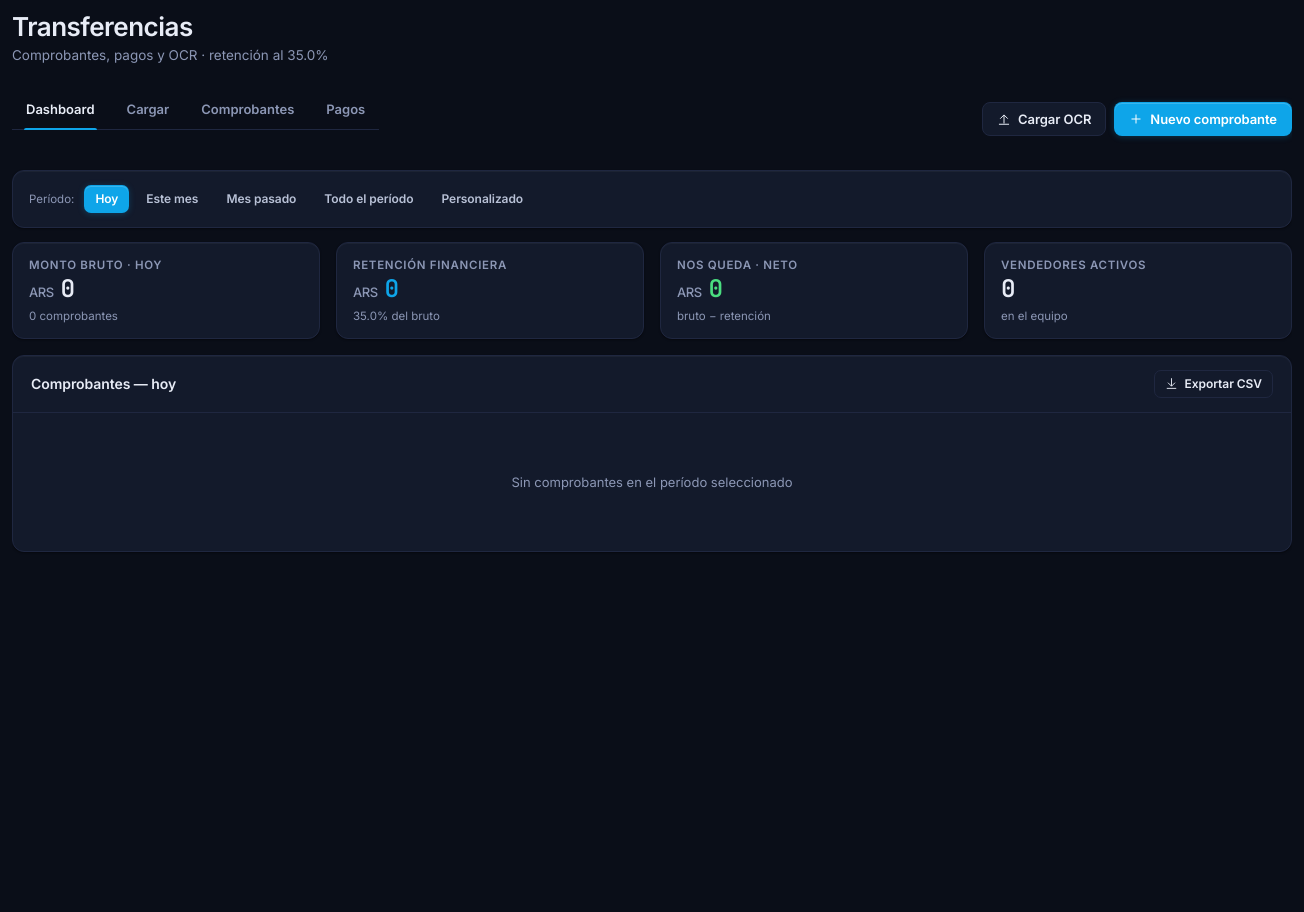
it: Financiera — form Pagos (TANDAs 1-3 sprint USD) › U3: saldo del período negativo se pinta con color var(--neg)
Click the button "Pagos".
click(346, 109)  # box [312,89,379,129]
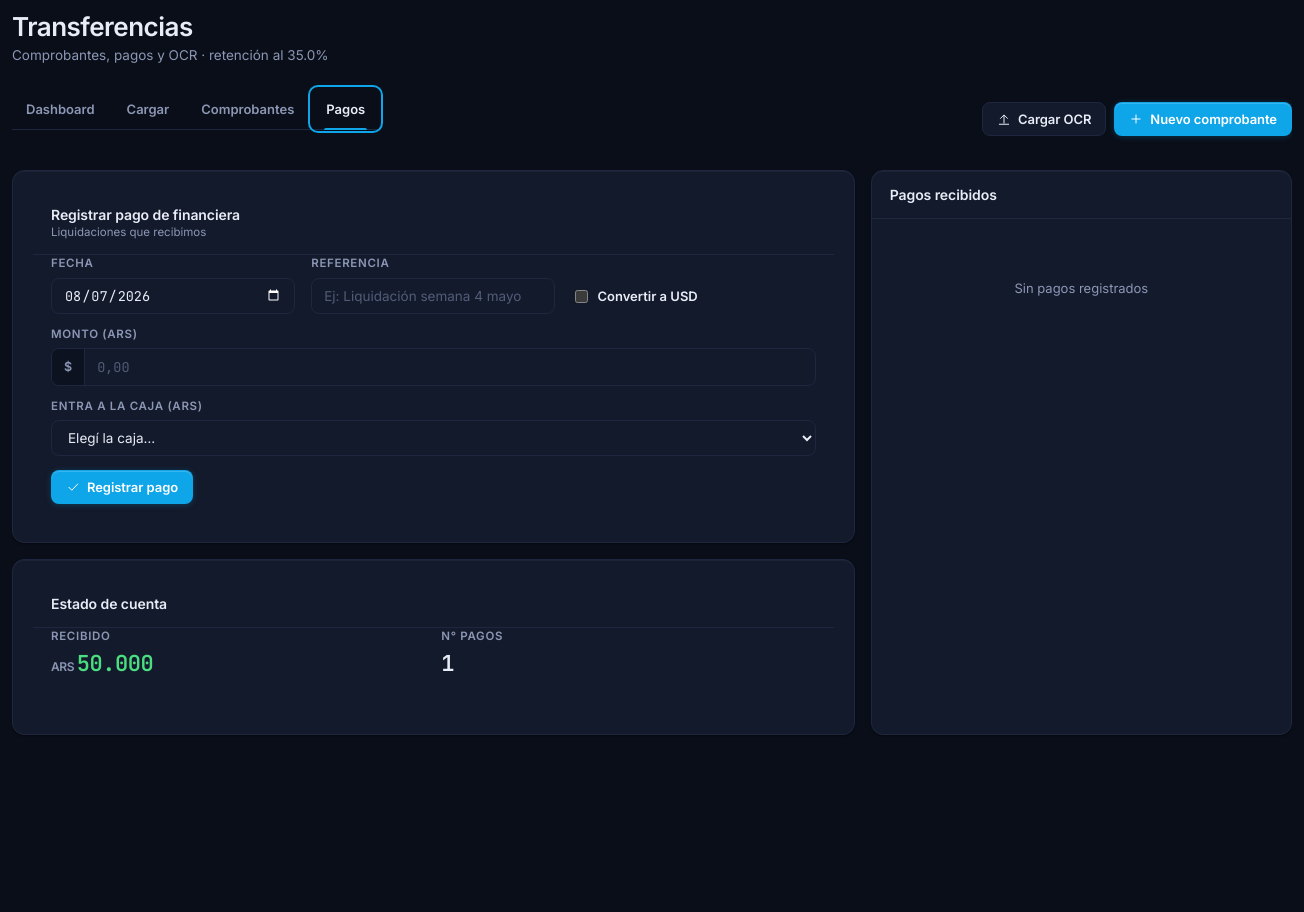
Check: the heading "Registrar pago de financiera" is shown, box [51,205,240,224]
Check: the text "50.000" is shown, box [77,649,153,678]
